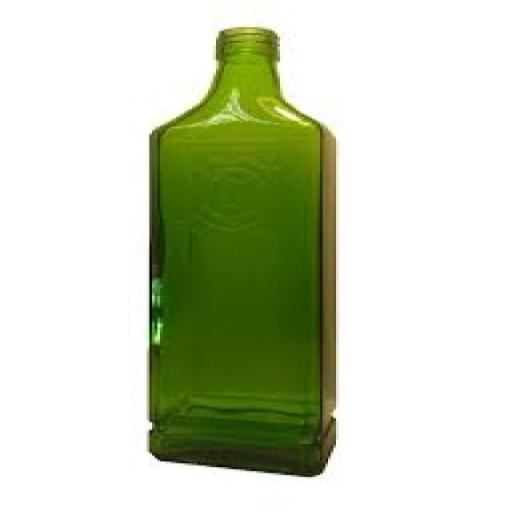glass: (125, 20, 362, 486)
